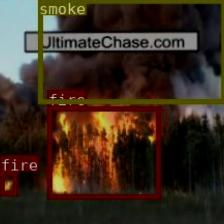fire: (46, 106, 160, 198), (0, 172, 17, 196)
smoke: (37, 0, 224, 103)
